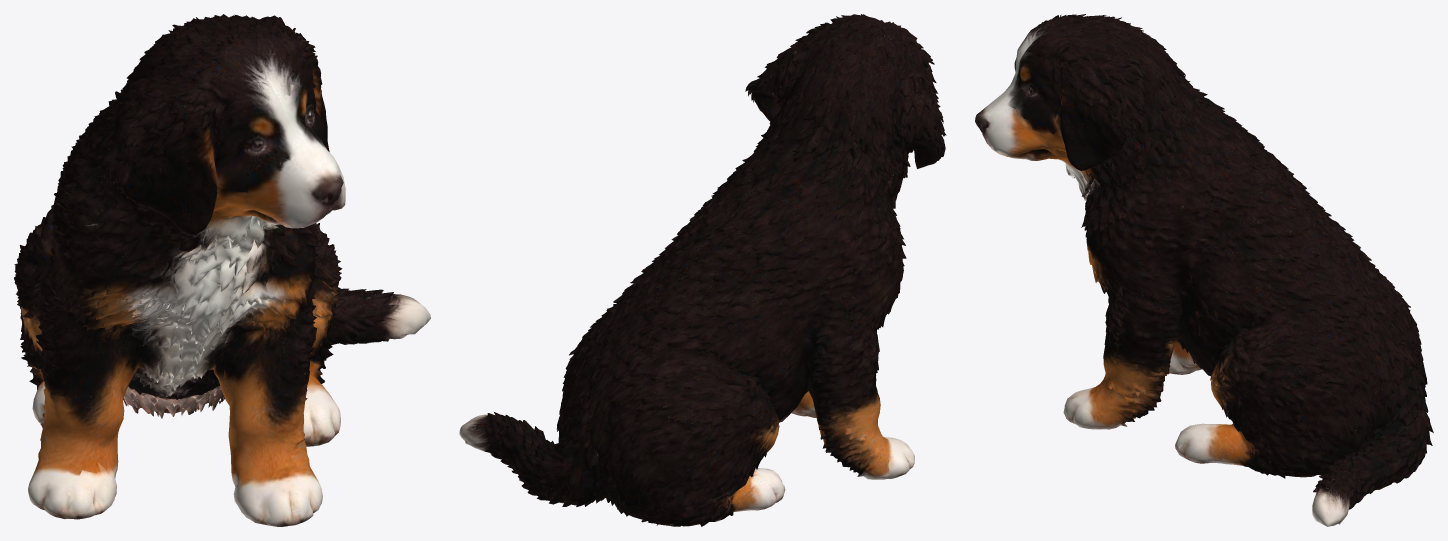
File: puppy.glb
3 views of the same model, side by side, from view 1: azimuth 30°, elevation 25°; view 2: azimuth 150°, elevation 25°; view 3: azimuth 270°, elevation 25° (orthographic). The views are drawn at different scales.
Bounding box in the file's own units: 0.4058 × 0.3973 × 0.4367.
Materials: 1 (1 with a texture image).
